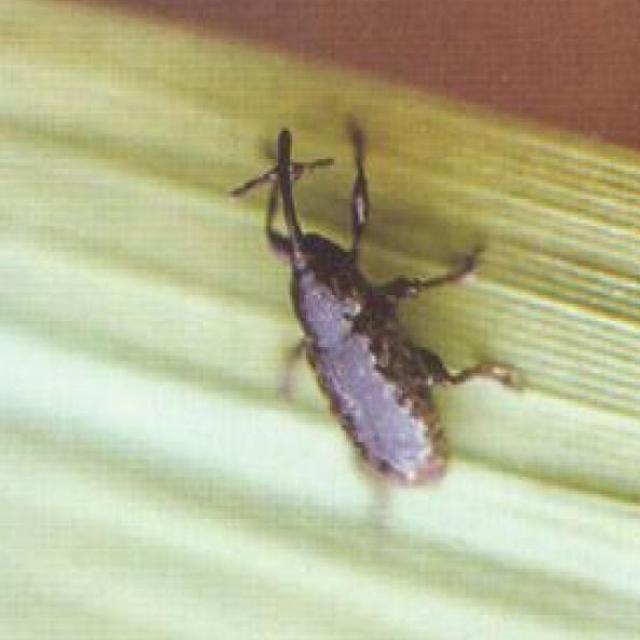ricebug: (234, 130, 521, 486)
